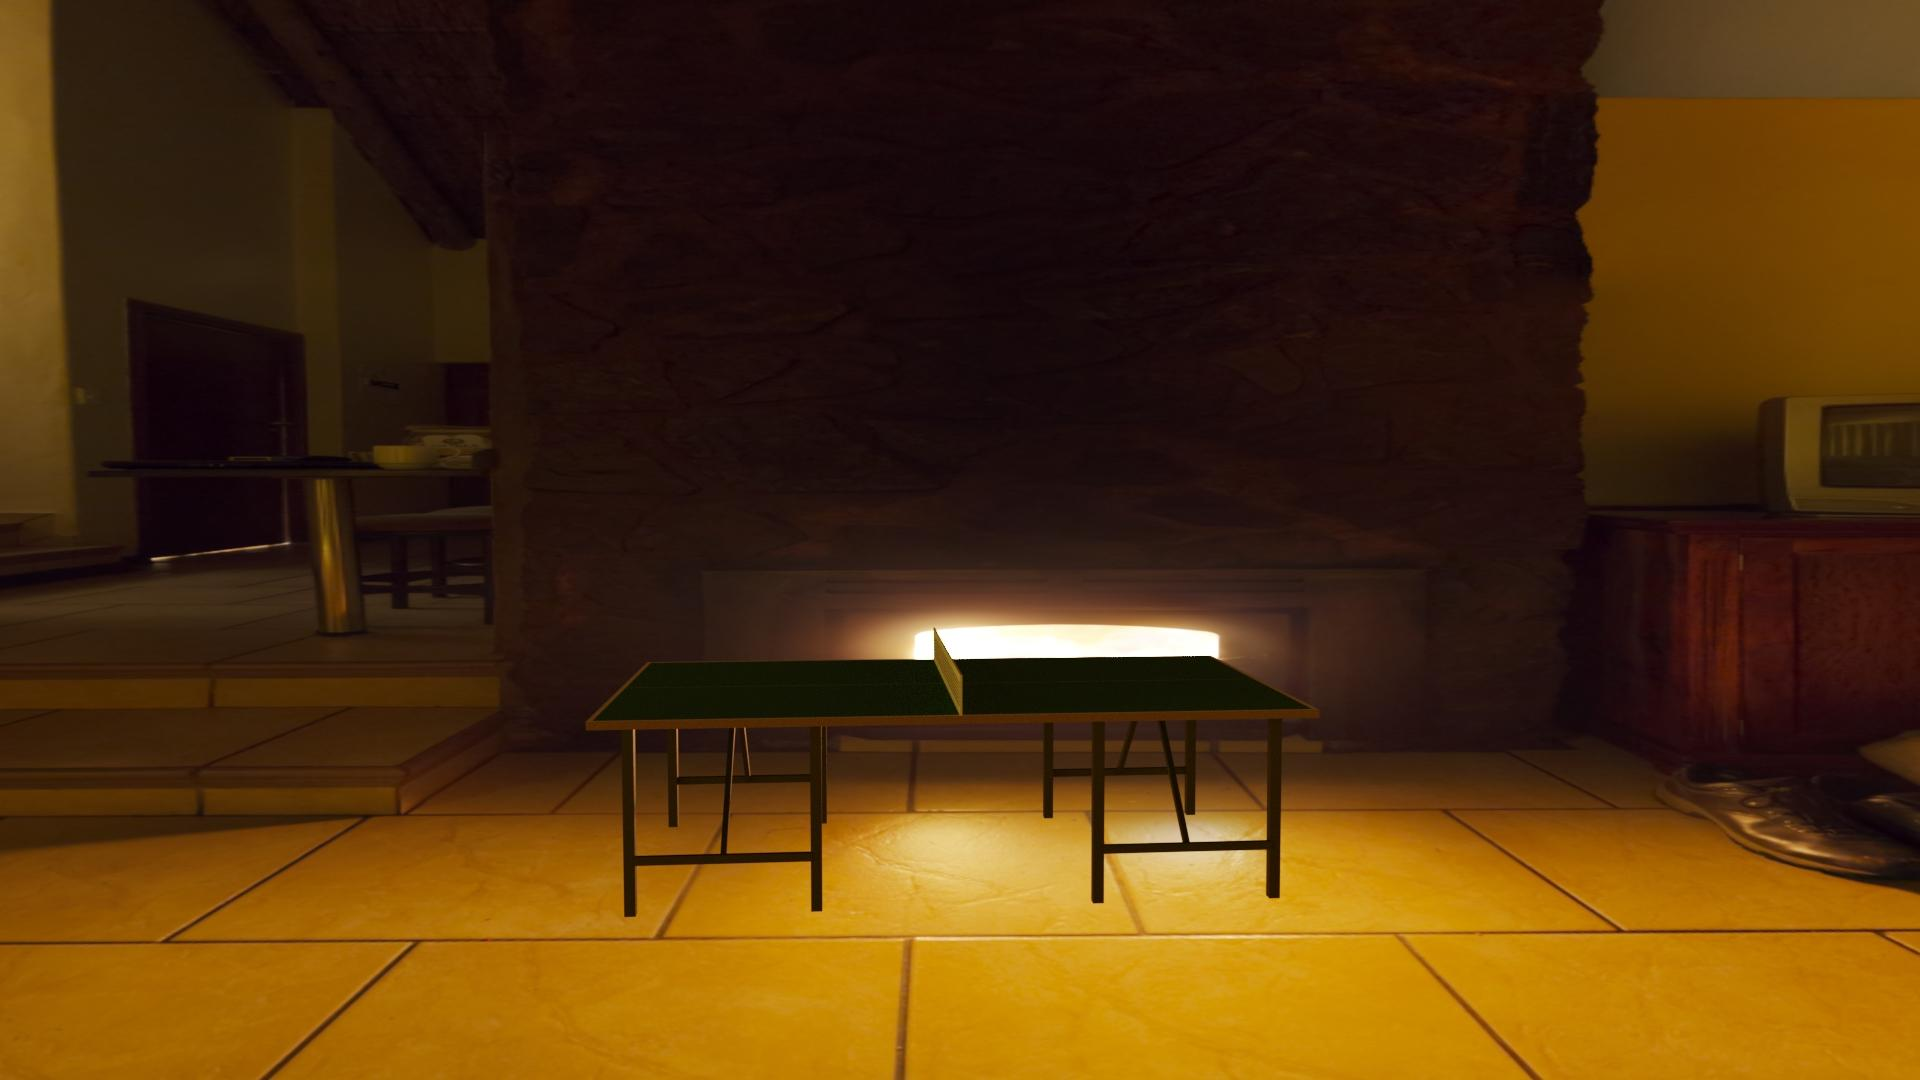table: (592, 656, 1312, 721)
